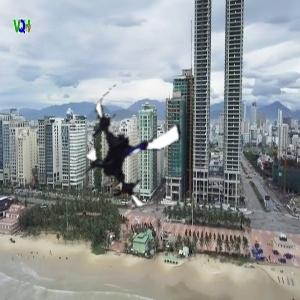drone: (70, 85, 195, 210)
